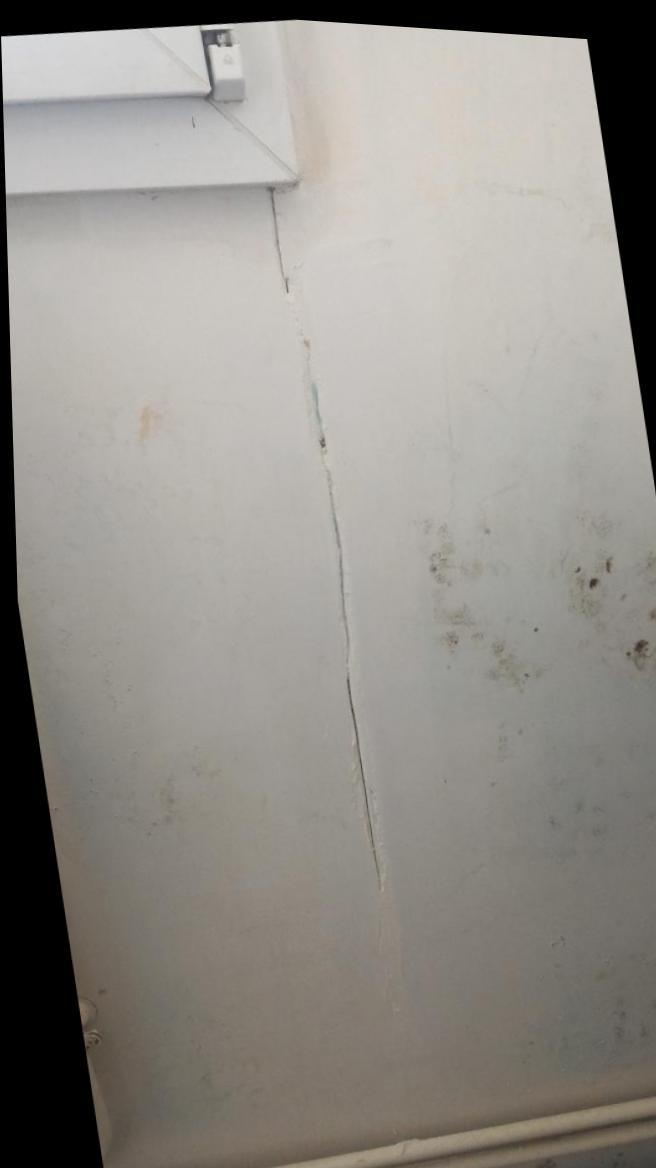crack: (266, 183, 376, 885)
